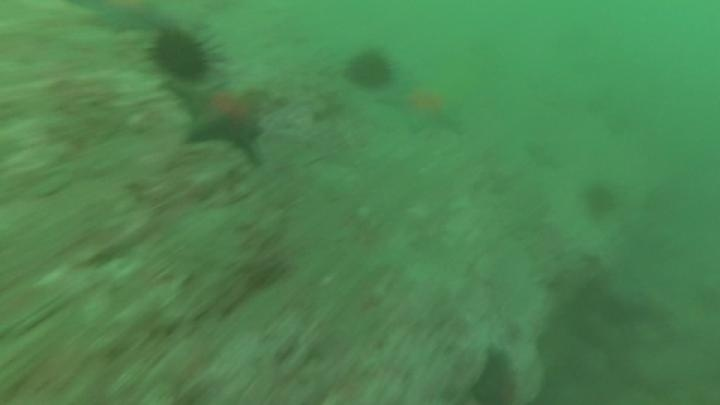echinus: (146, 24, 221, 86), (469, 346, 522, 405), (343, 46, 397, 94), (580, 180, 620, 221)
starfish: (171, 78, 271, 157), (377, 76, 468, 139), (80, 1, 170, 37)
